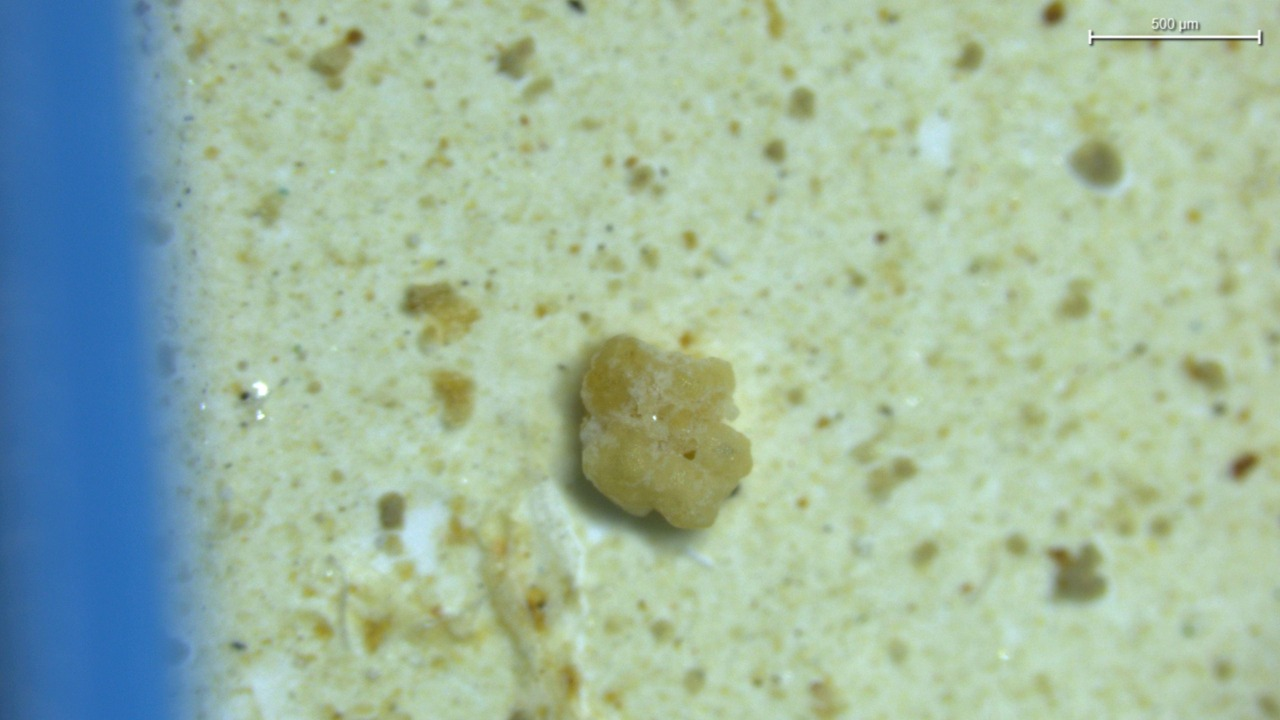microplastic_fragment: (580, 336, 751, 528)
